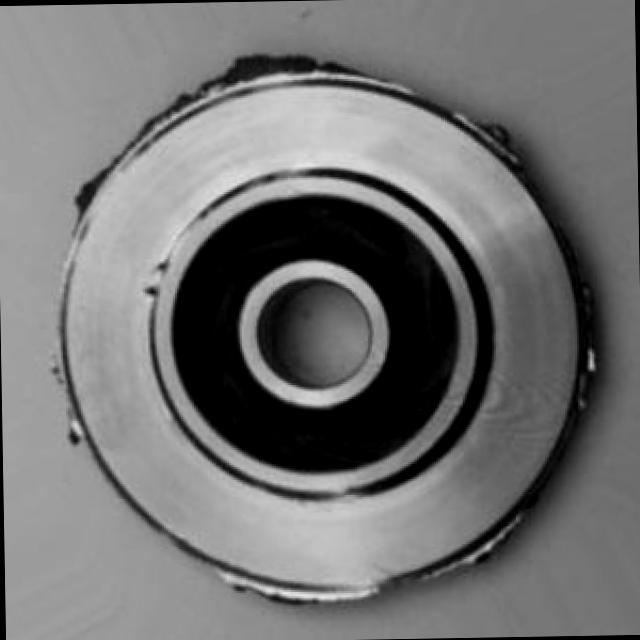Defect: (210, 43, 317, 86)
